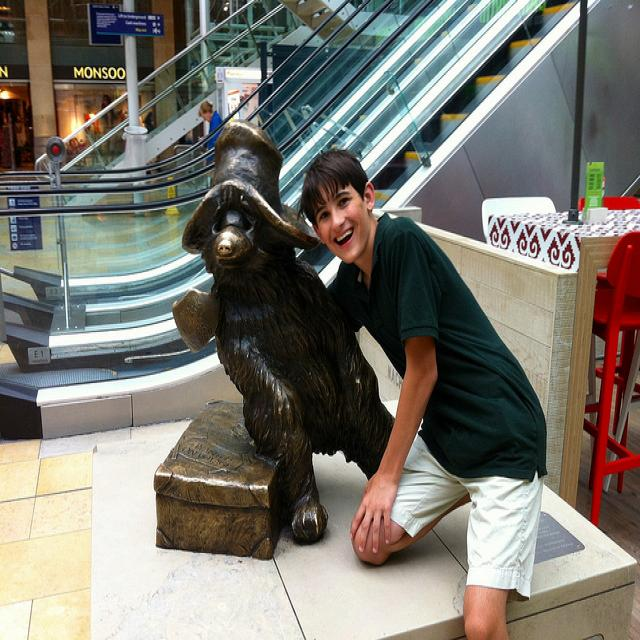chair: (584, 230, 640, 527), (480, 194, 559, 242), (578, 196, 640, 210)
dining table: (492, 209, 640, 509)
